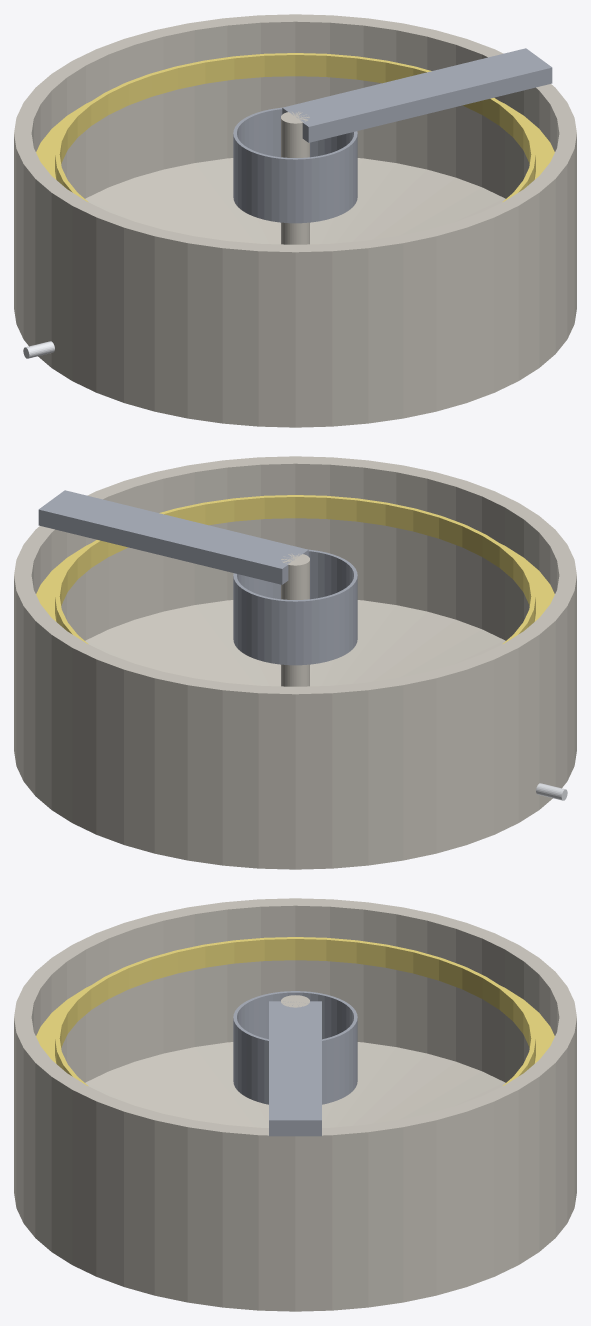
The picture shows the model from 3 angles, top to bottom: view 1: azimuth 30°, elevation 25°; view 2: azimuth 150°, elevation 25°; view 3: azimuth 270°, elevation 25°; orthographic projection.
Parts seen in each view (by area): view 1: saneamiento_sedimentador__secundario__cuerpo, saneamiento_sedimentador__secundario__canaleta, saneamiento_sedimentador__secundario__campana, saneamiento_sedimentador__secundario__puente; view 2: saneamiento_sedimentador__secundario__cuerpo, saneamiento_sedimentador__secundario__canaleta, saneamiento_sedimentador__secundario__campana, saneamiento_sedimentador__secundario__puente; view 3: saneamiento_sedimentador__secundario__cuerpo, saneamiento_sedimentador__secundario__canaleta, saneamiento_sedimentador__secundario__campana, saneamiento_sedimentador__secundario__puente.
Part boxes in pixels (x1,y1,x2,y2): saneamiento_sedimentador__secundario__cuerpo: [14, 14, 576, 427]; saneamiento_sedimentador__secundario__canaleta: [36, 53, 554, 202]; saneamiento_sedimentador__secundario__campana: [233, 107, 357, 223]; saneamiento_sedimentador__secundario__puente: [282, 48, 552, 142]; saneamiento_sedimentador__secundario__cuerpo: [14, 456, 576, 869]; saneamiento_sedimentador__secundario__canaleta: [36, 495, 554, 644]; saneamiento_sedimentador__secundario__campana: [233, 549, 357, 665]; saneamiento_sedimentador__secundario__puente: [38, 490, 308, 584]; saneamiento_sedimentador__secundario__cuerpo: [14, 898, 576, 1311]; saneamiento_sedimentador__secundario__canaleta: [36, 937, 554, 1086]; saneamiento_sedimentador__secundario__campana: [233, 991, 357, 1104]; saneamiento_sedimentador__secundario__puente: [269, 1001, 321, 1136].
Size of the model in its own units: 10.1 by 3.6 by 9.6.
